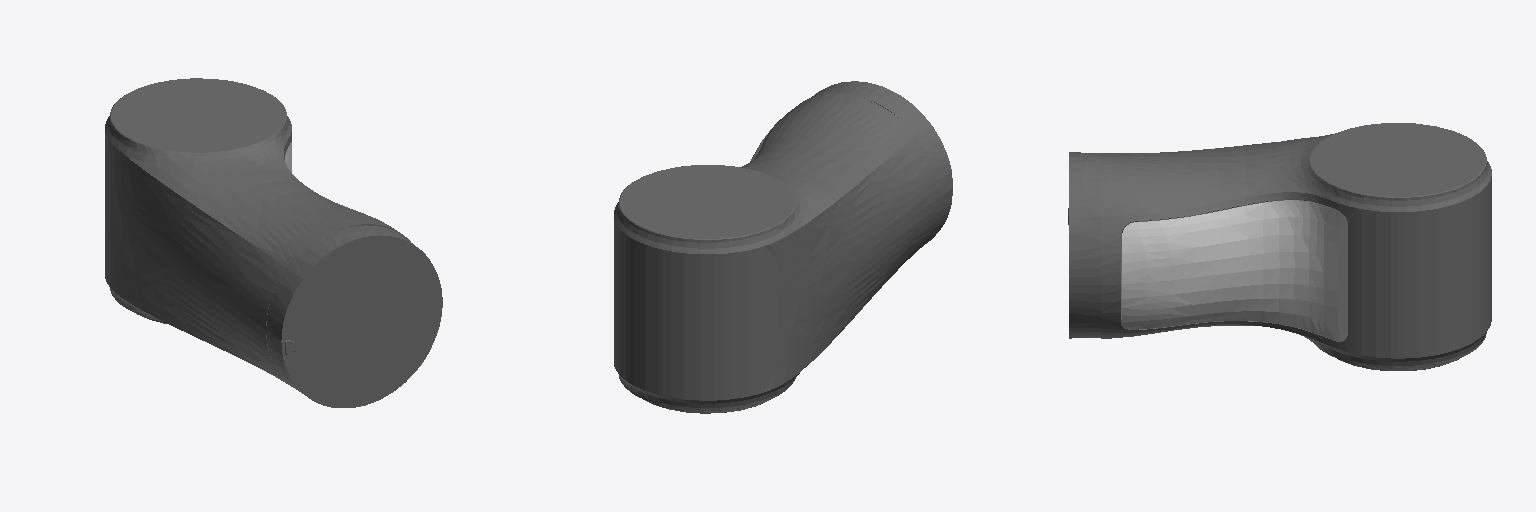
The picture shows the model from 3 angles: view 1: azimuth 30°, elevation 25°; view 2: azimuth 150°, elevation 25°; view 3: azimuth 270°, elevation 25°; orthographic projection.
Visible parts, largest first — view 1: left_shoulder_yaw_link; view 2: left_shoulder_yaw_link; view 3: left_shoulder_yaw_link.
Boxes of the visible parts, x1=… form: left_shoulder_yaw_link: x1=105, y1=78, x2=442, y2=407; left_shoulder_yaw_link: x1=614, y1=81, x2=952, y2=413; left_shoulder_yaw_link: x1=1068, y1=123, x2=1491, y2=370.
Bounding box in the file's own units: 0.0755 × 0.0845 × 0.1675.